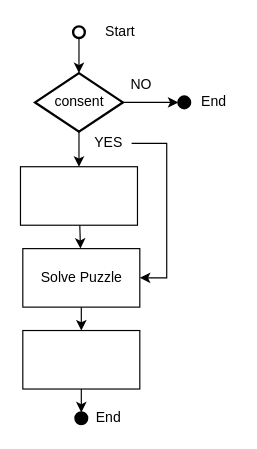
Image size: 257x449. Some labels were removed from this diagram. Here are the shapes that lost their labels. From the top down, the box of each, then its label:
(19, 166, 137, 225): Take Rush Hour Tutorial
(22, 329, 140, 389): Take Survey
